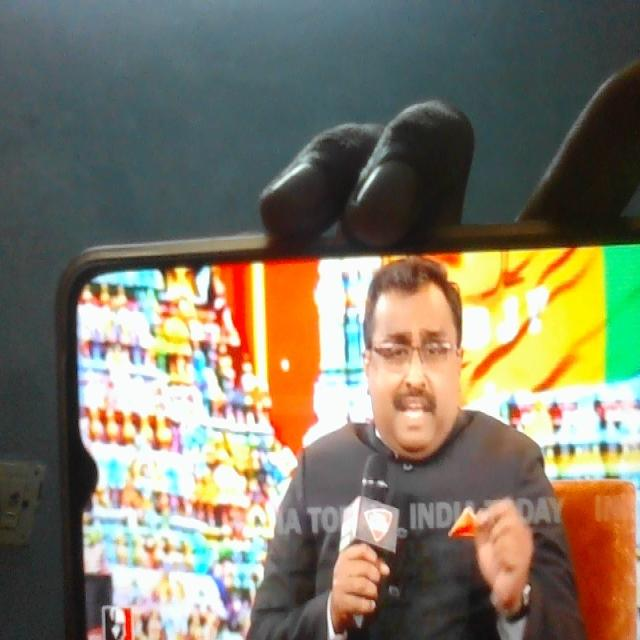fake: (352, 229, 476, 464)
